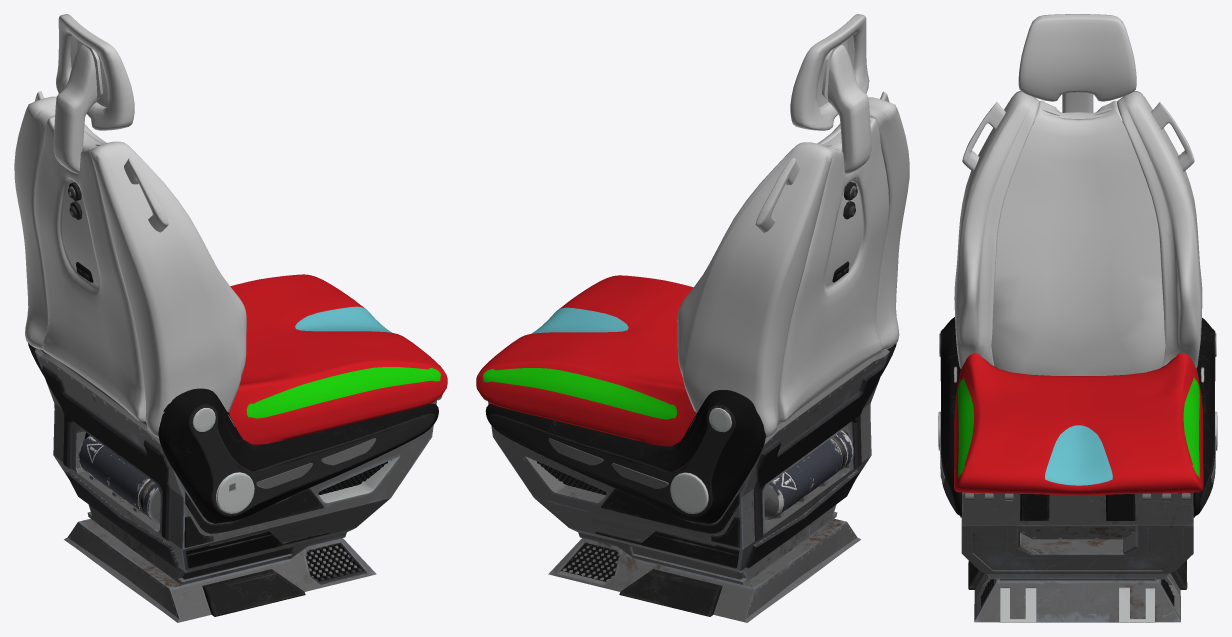
Rendered from Cabine_Аrmchair.fbx.
3 renders of one model, left to right at view 1: azimuth 30°, elevation 25°; view 2: azimuth 150°, elevation 25°; view 3: azimuth 270°, elevation 25°, orthographic. The views are drawn at different scales.
Parts seen in each view (by area): view 1: seat base, zijbar rug_low, ass seat_low, seat achter_low, zijstuk_low.002, head rest, head rest rest_low, gas cylinder_low, seat total.005_Piece.001, Cube.001, seat total.005_Piece.002, HoneyComb.002 (+2 smaller); view 2: seat base, zijbar rug_low, ass seat_low, seat achter_low, zijstuk_low.003, head rest, head rest rest_low, gas cylinder_low, seat total.005_Piece.001, Cube.001, seat total.005_Piece.002, HoneyComb.002 (+2 smaller); view 3: basck rest_low, ass seat_low, seat base, zijbar rug_low, head rest, zijstuk_low.002, zijstuk_low.003, hendles, seat achter_low, head rest rest_low, seat total.005_Piece.001.
Boxes of the visible parts, <box> form: seat base: <box>35,348,437,622</box>; zijbar rug_low: <box>14,96,246,437</box>; ass seat_low: <box>229,274,447,444</box>; seat achter_low: <box>35,116,146,421</box>; zijstuk_low.002: <box>158,388,438,523</box>; head rest: <box>56,14,134,130</box>; head rest rest_low: <box>53,45,97,173</box>; gas cylinder_low: <box>78,435,160,523</box>; seat total.005_Piece.001: <box>202,569,305,616</box>; Cube.001: <box>185,488,323,533</box>; seat total.005_Piece.002: <box>185,531,329,568</box>; HoneyComb.002: <box>306,544,363,581</box>; seat base: <box>488,349,889,622</box>; zijbar rug_low: <box>677,97,909,438</box>; ass seat_low: <box>476,275,696,446</box>; seat achter_low: <box>778,117,889,422</box>; zijstuk_low.003: <box>485,390,765,523</box>; head rest: <box>790,14,869,130</box>; head rest rest_low: <box>827,45,871,173</box>; gas cylinder_low: <box>764,430,853,519</box>; seat total.005_Piece.001: <box>619,569,722,616</box>; Cube.001: <box>601,488,739,533</box>; seat total.005_Piece.002: <box>595,531,739,568</box>; HoneyComb.002: <box>561,544,618,581</box>; basck rest_low: <box>991,111,1165,375</box>; ass seat_low: <box>954,353,1203,495</box>; seat base: <box>961,492,1193,622</box>; zijbar rug_low: <box>954,91,1202,368</box>; head rest: <box>1018,14,1136,101</box>; zijstuk_low.002: <box>938,317,961,516</box>; zijstuk_low.003: <box>1193,318,1217,516</box>; hendles: <box>962,102,1194,171</box>; seat achter_low: <box>1033,100,1124,125</box>; head rest rest_low: <box>1062,92,1093,112</box>; seat total.005_Piece.001: <box>968,560,1187,589</box>.
Bounding box in the file's own units: 85.73 × 139 × 69.71.
